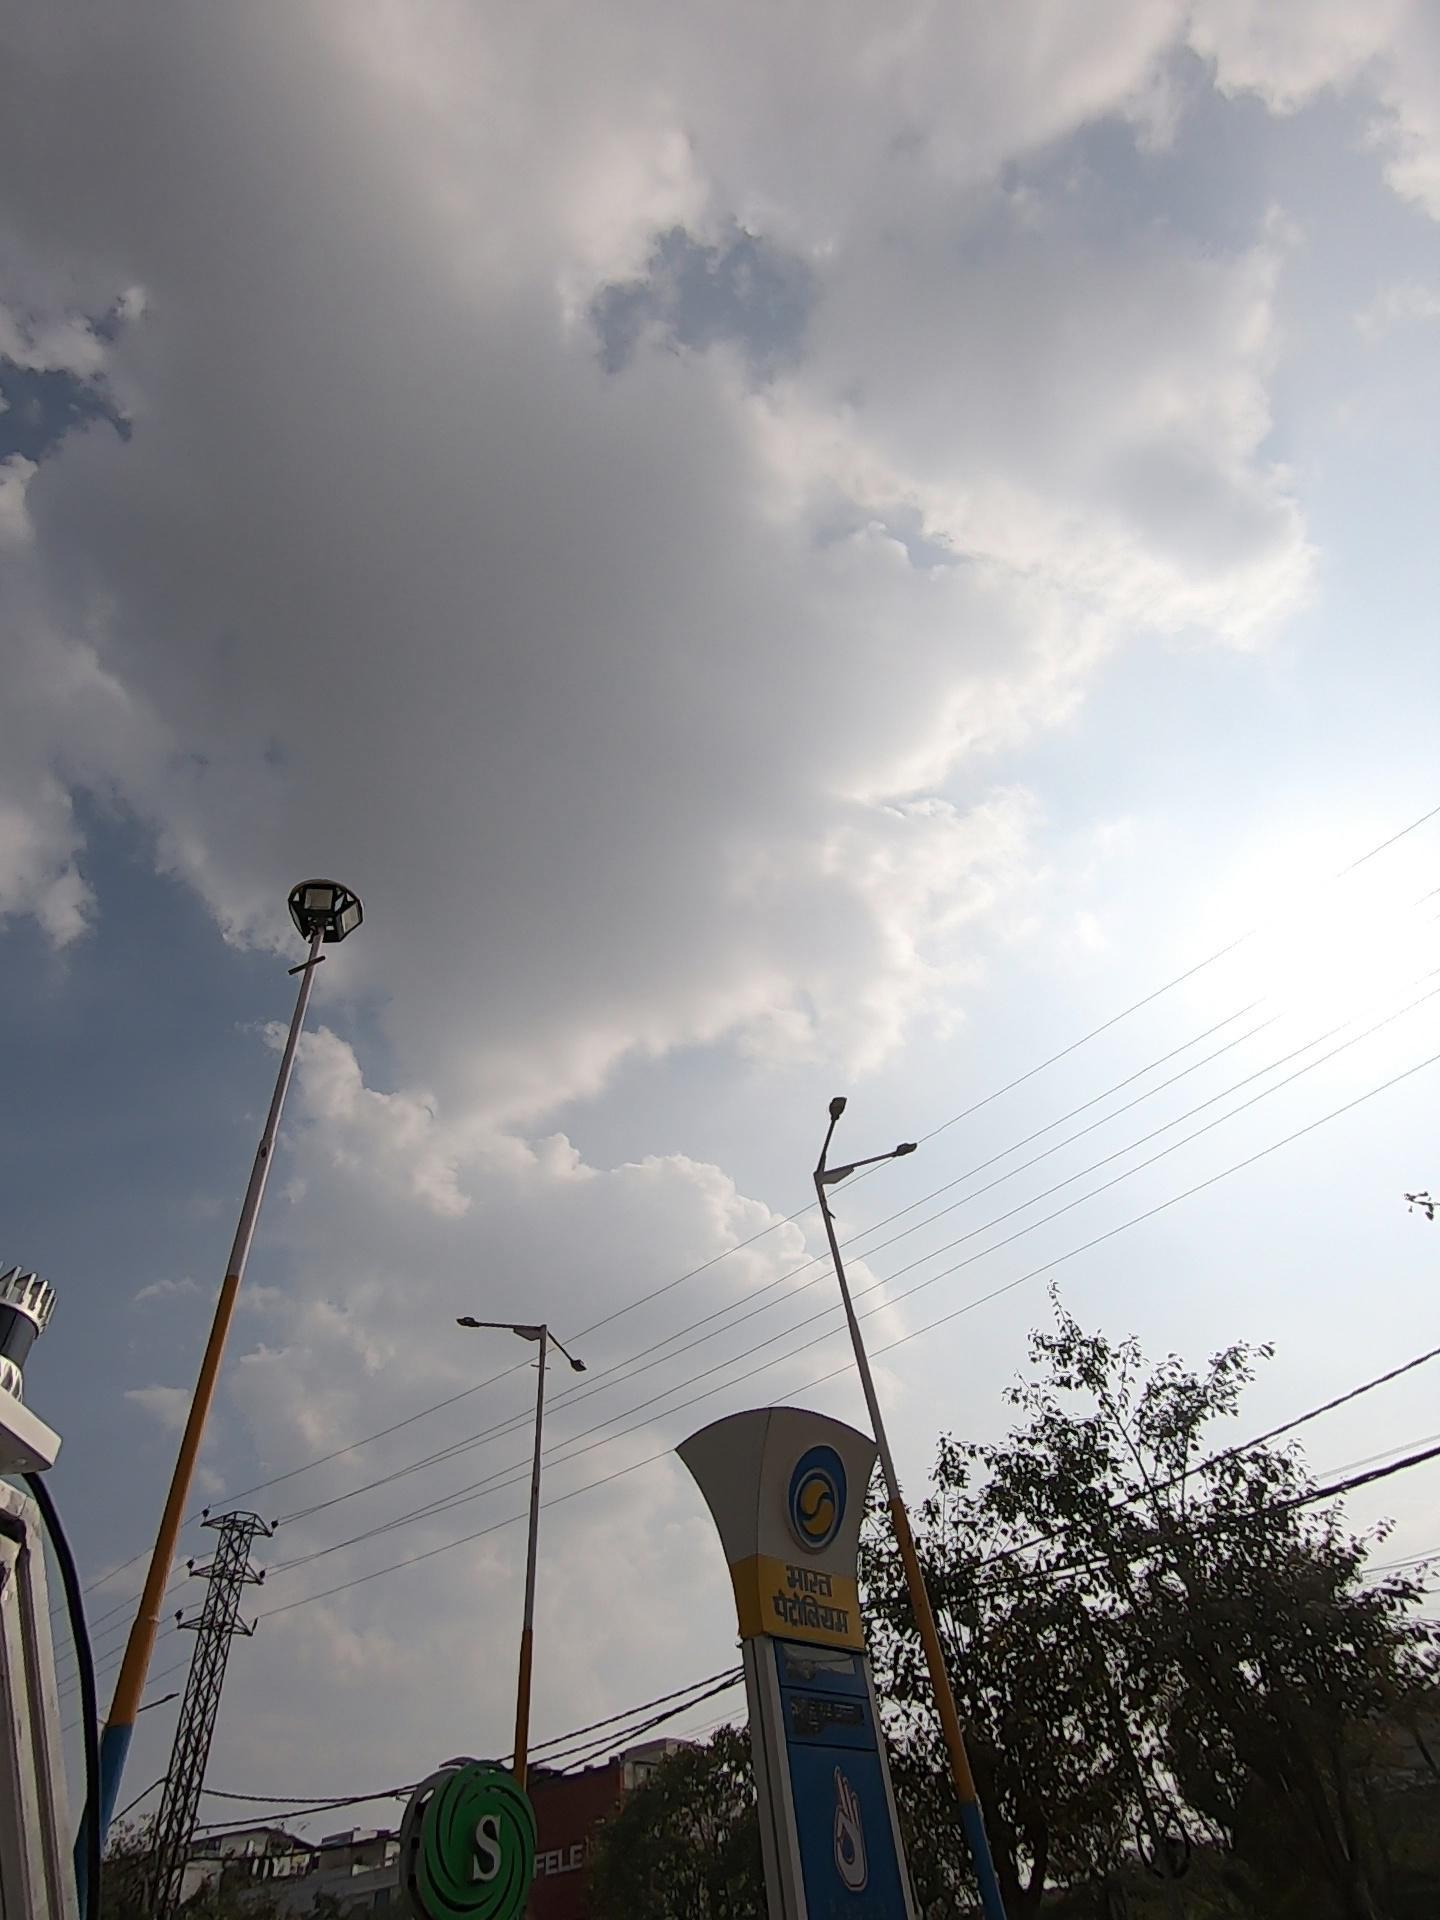off: (399, 1246, 672, 1448), (709, 1011, 956, 1203), (225, 810, 431, 992)
